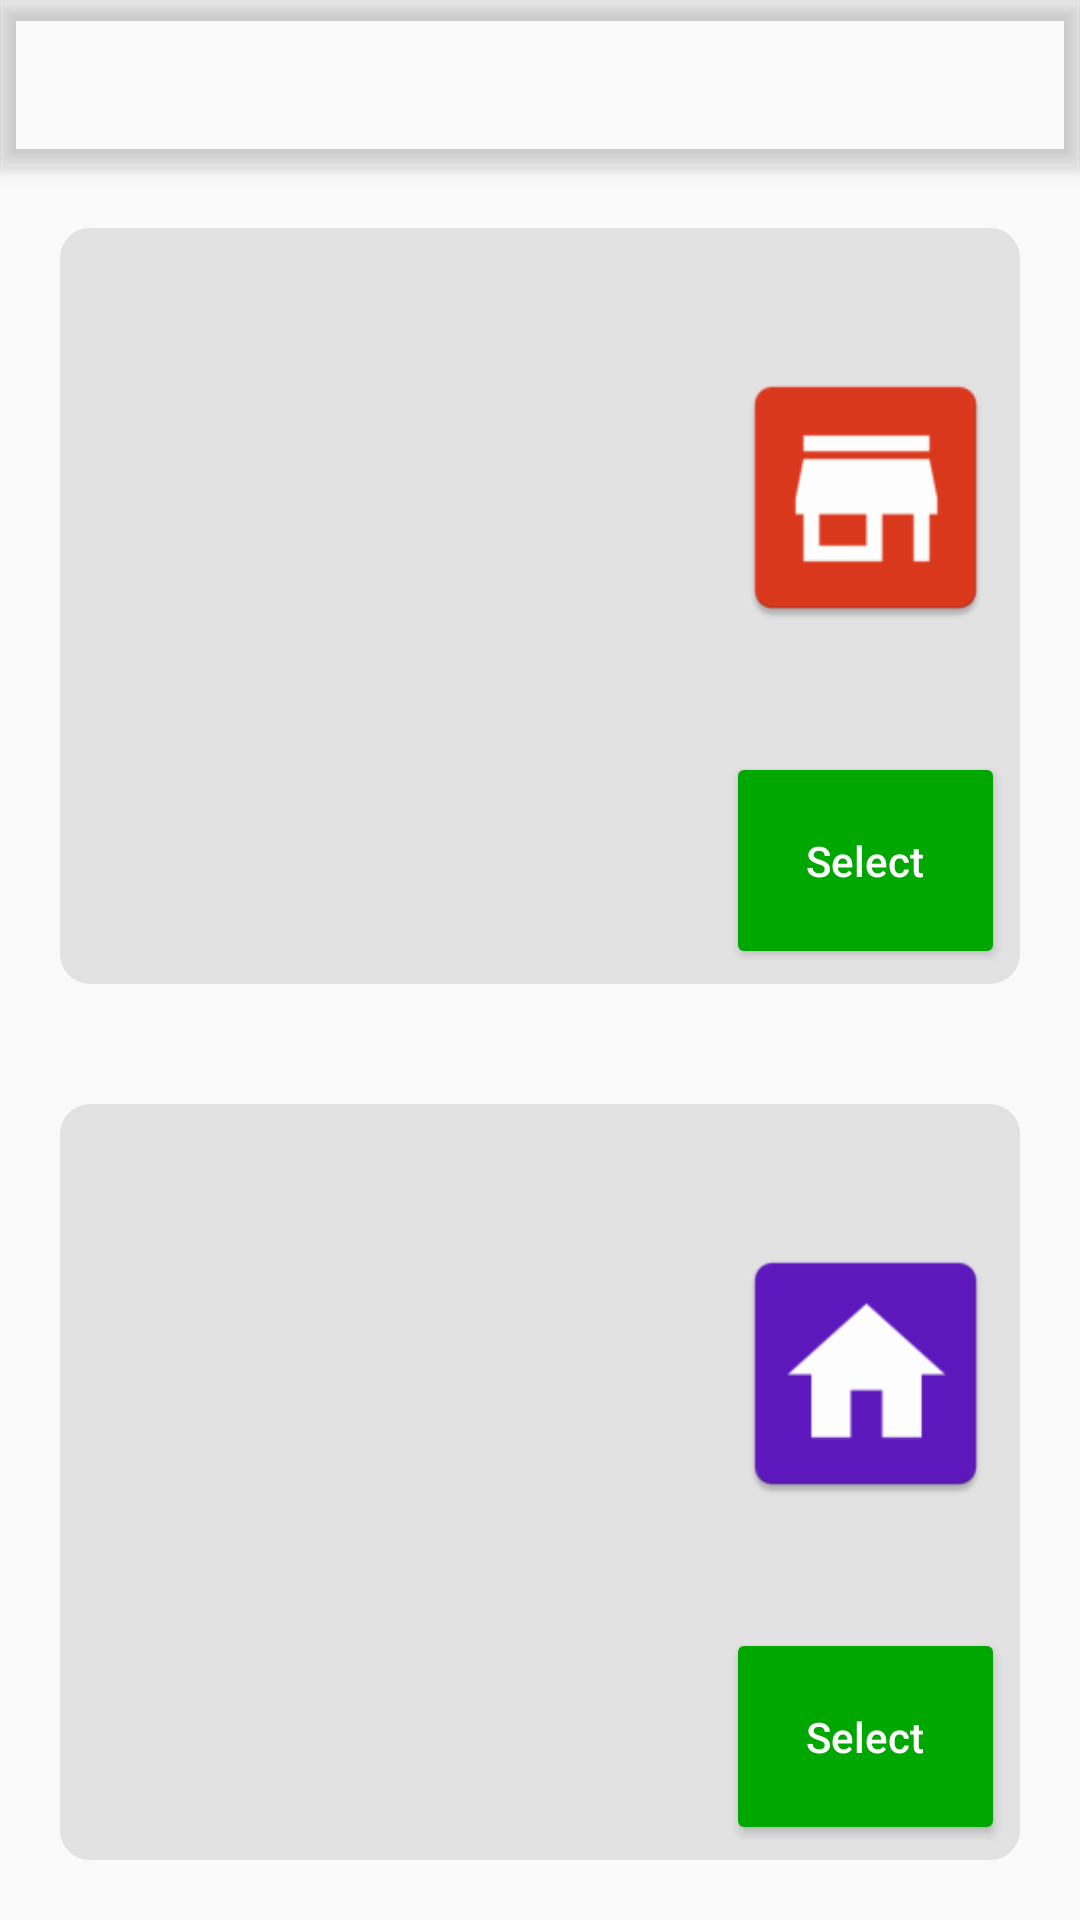

Icons on this 1080×1920 Android screen, each with the point to tap as point (x, y):
home: point (865, 1376)
pickup: point (865, 500)
